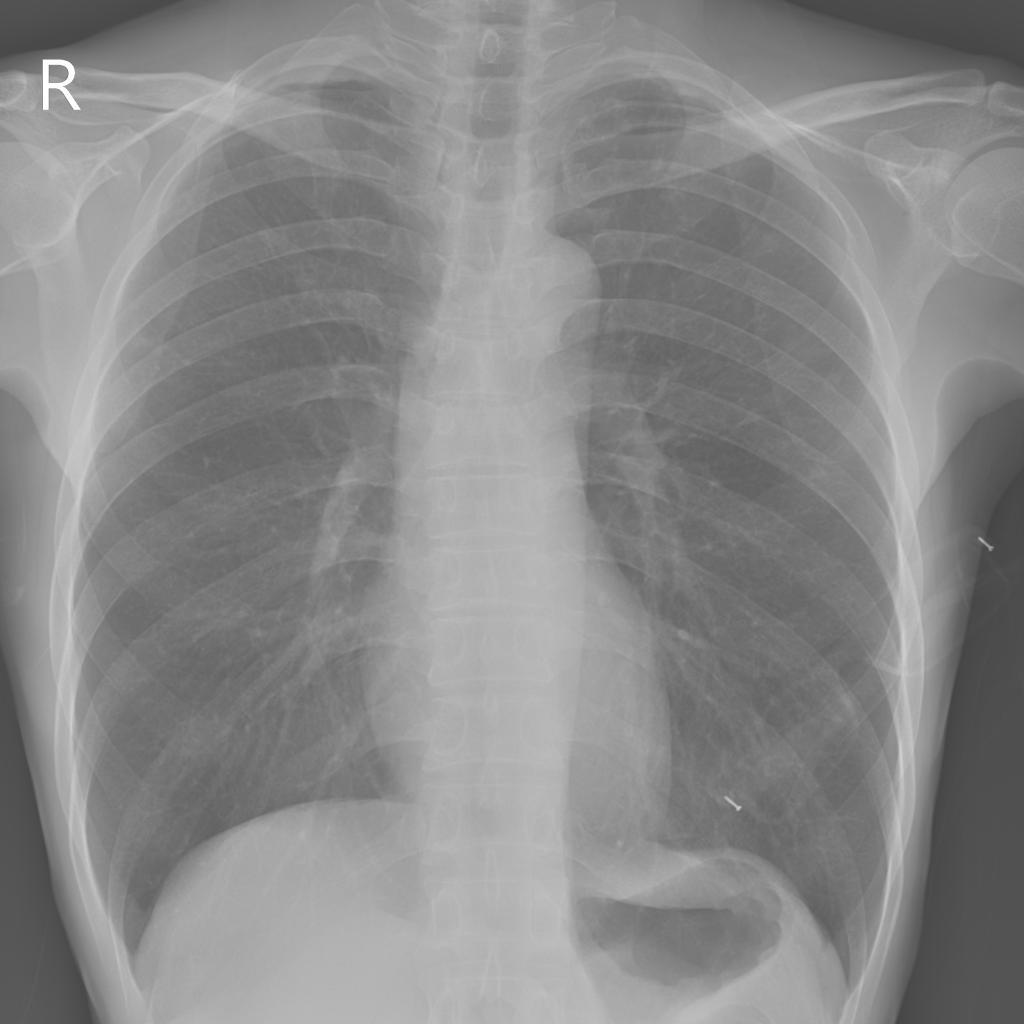Nodule: (822, 373, 846, 395), (761, 236, 784, 258)
